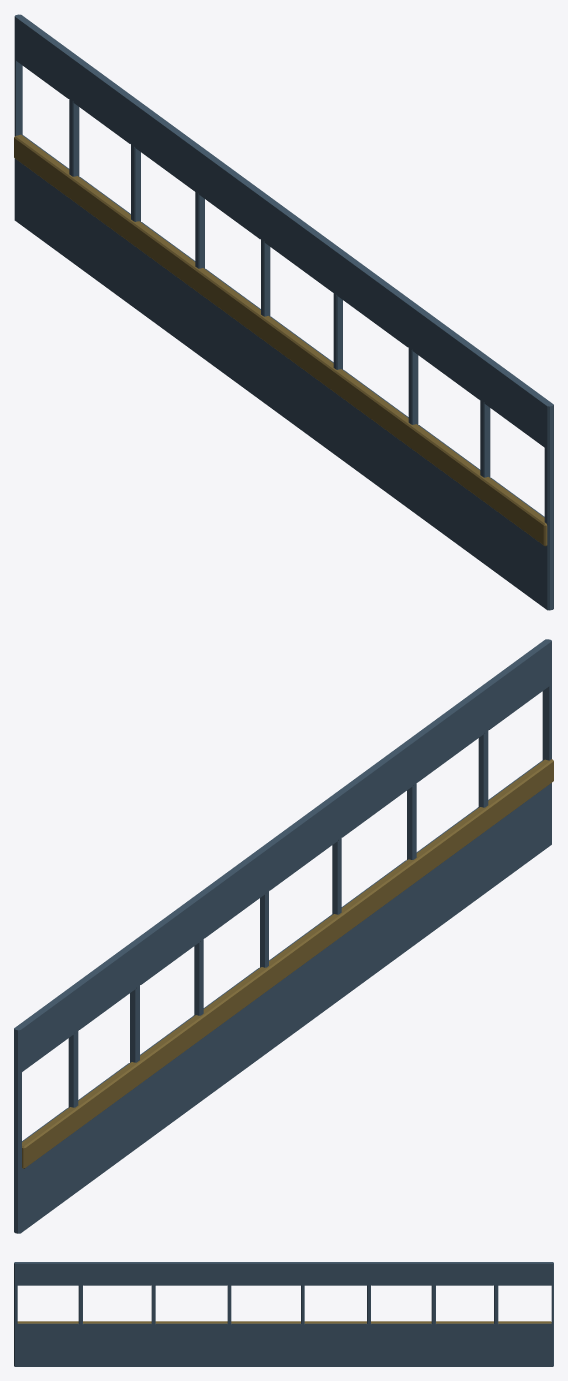
File: SM_SubwayRightWall.fbx
3 views of the same model, one above another, from view 1: azimuth 30°, elevation 25°; view 2: azimuth 150°, elevation 25°; view 3: azimuth 270°, elevation 25° (orthographic). The views are drawn at different scales.
Visible parts, largest first — view 1: pasted__polySurface4805; view 2: pasted__polySurface4805; view 3: pasted__polySurface4805.
Part boxes in pixels (<box>): pasted__polySurface4805: <box>14,14,553,610</box>; pasted__polySurface4805: <box>14,639,553,1233</box>; pasted__polySurface4805: <box>14,1262,553,1366</box>.
Size of the model in its own units: 49.97 by 1031 by 4898.
